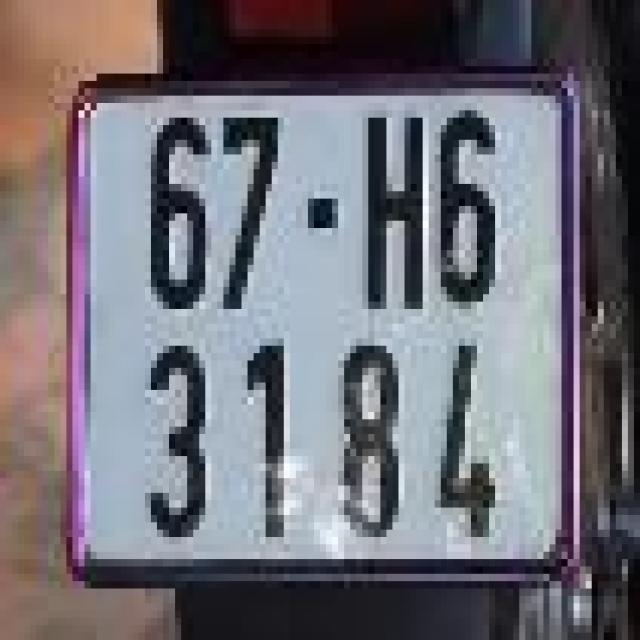1: (235, 331, 308, 537)
3: (145, 338, 217, 544)
4: (426, 335, 510, 548)
6: (432, 100, 510, 328), (142, 107, 214, 320)
7: (217, 103, 290, 316)
8: (338, 331, 405, 544)
H: (359, 103, 432, 324)
